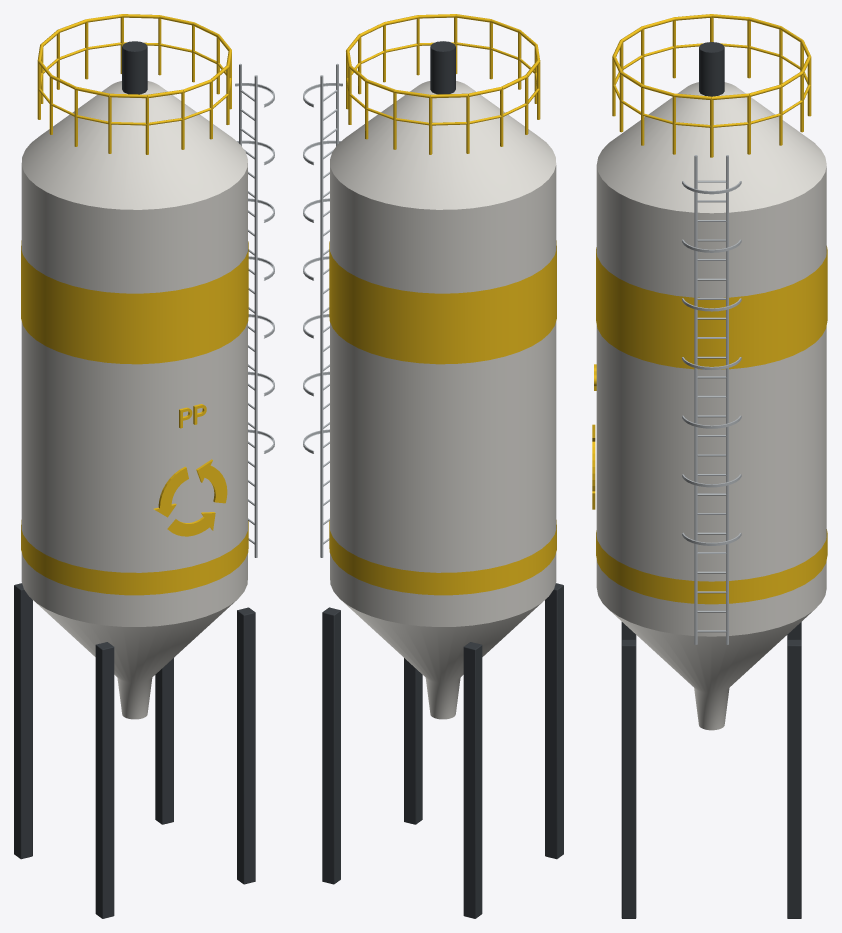
File: silo_yellow.fbx
3 renders of one model, left to right at view 1: azimuth 30°, elevation 25°; view 2: azimuth 150°, elevation 25°; view 3: azimuth 270°, elevation 25°, orthographic.
Parts seen in each view (by area): view 1: silo_yellow; view 2: silo_yellow; view 3: silo_yellow.
Part boxes in pixels (box(x1,y1,x2,y2)): silo_yellow: box(14, 14, 274, 918); silo_yellow: box(303, 14, 563, 918); silo_yellow: box(592, 14, 827, 918).
Size of the model in its own units: 3.83 by 12.8 by 3.27.
